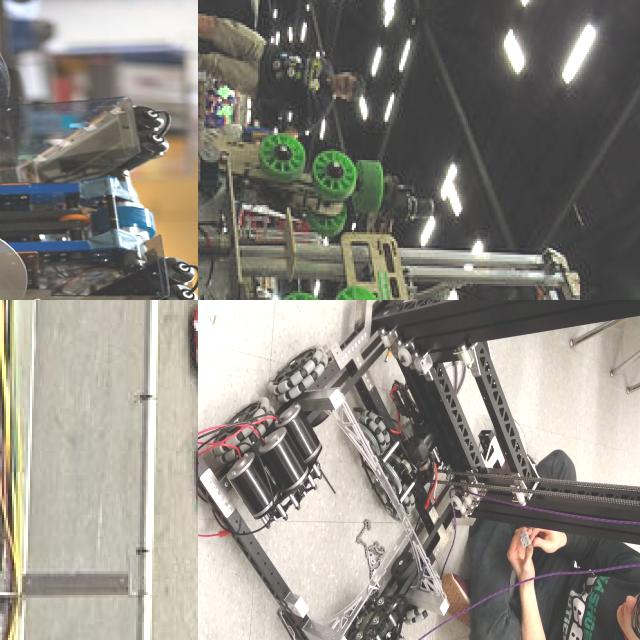FRC-Robots: (198, 300, 640, 640), (198, 0, 597, 300), (0, 0, 183, 300)
